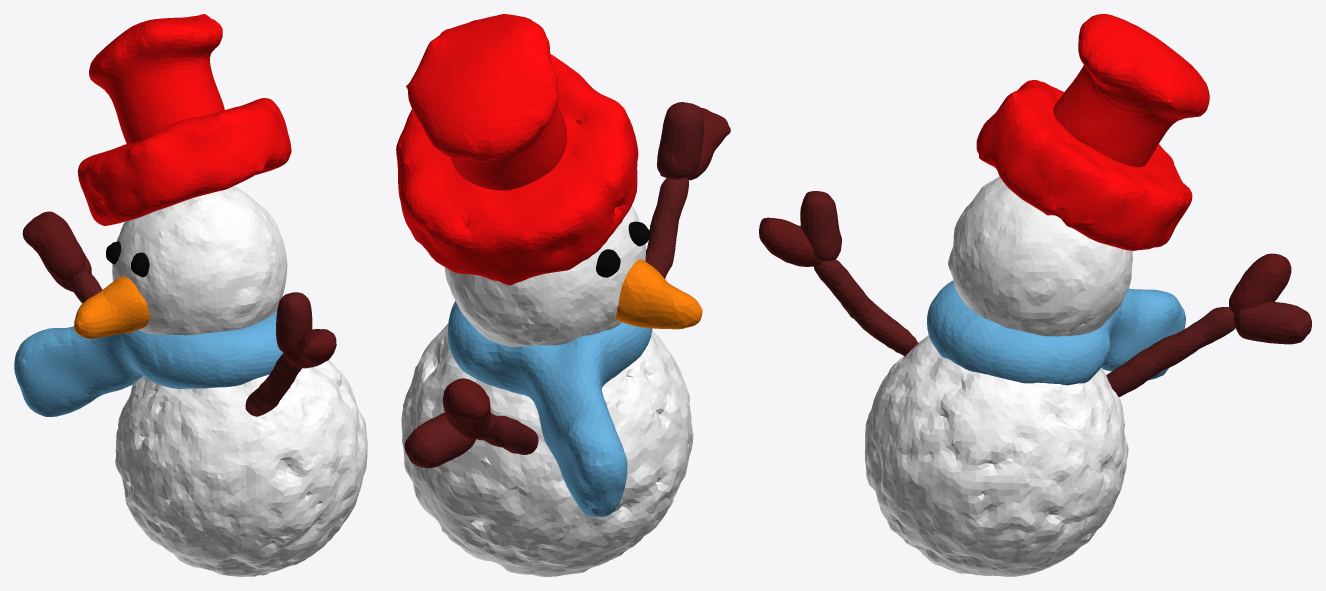
The model's file is snowman_full1.obj.
The picture shows the model from 3 angles, left to right: view 1: azimuth 30°, elevation 25°; view 2: azimuth 150°, elevation 25°; view 3: azimuth 270°, elevation 25°; orthographic projection. The views are drawn at different scales.
Bounding box in the file's own units: 0.326 × 0.6174 × 0.5794.
